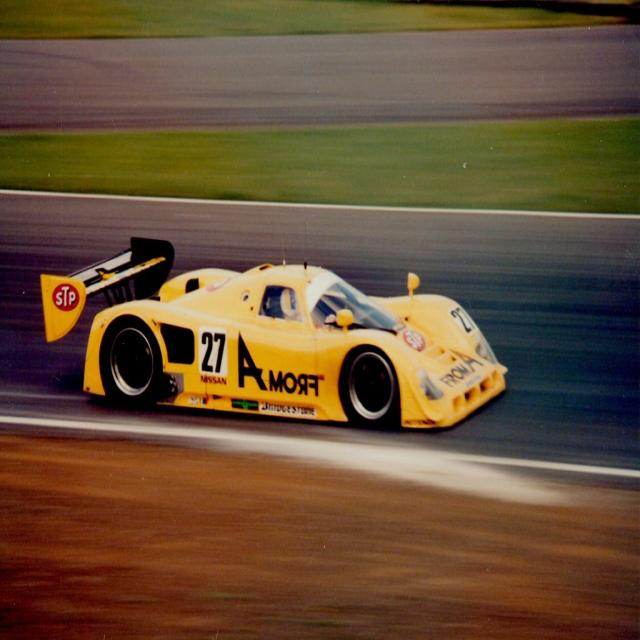car: (34, 231, 505, 435)
